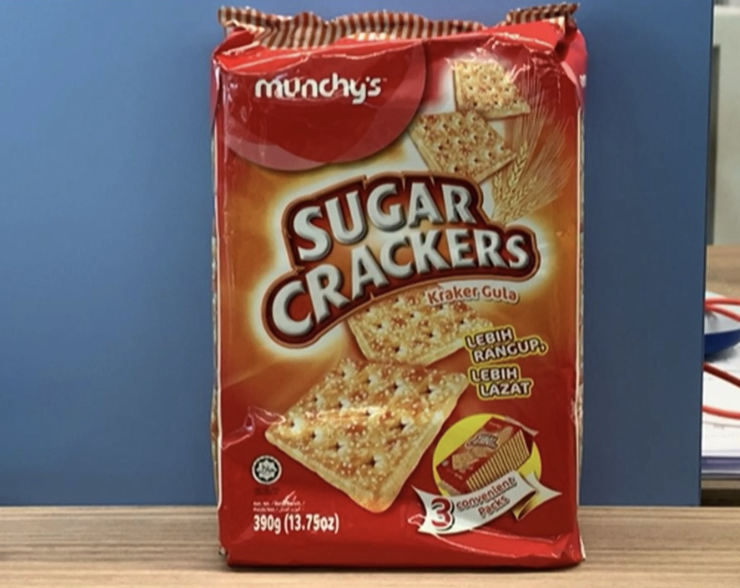crackers_300g-399g: (240, 65, 565, 540)
